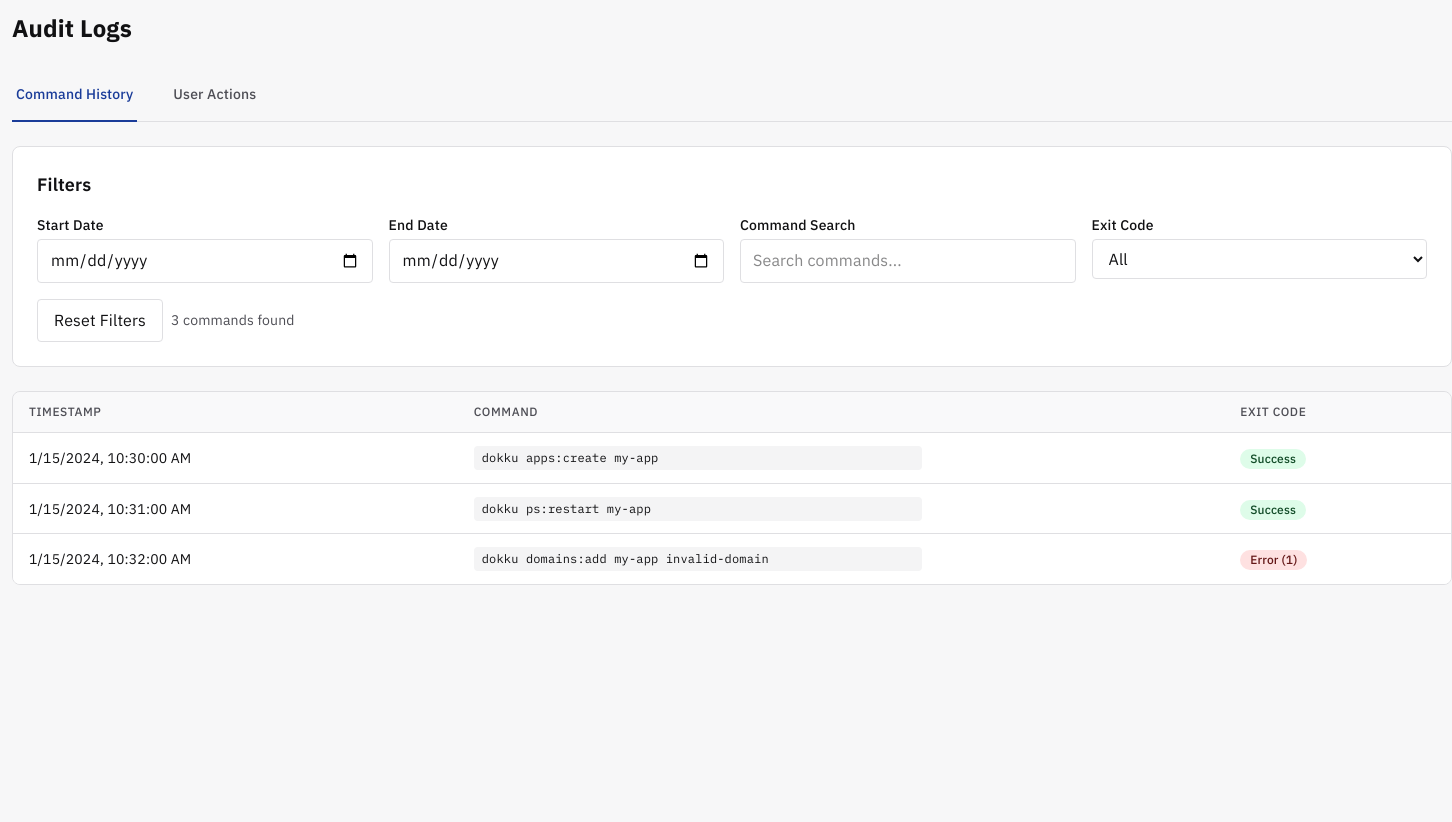
Test: Audit › should collapse log details when row is clicked again
This screenshot has width=1452, height=822.
Check: the text "dokku apps:create my-app" is shown, box [474,446,922,470]
Click the text "dokku apps:create my-app". click: (732, 458)
box: [13,433,1451,483]
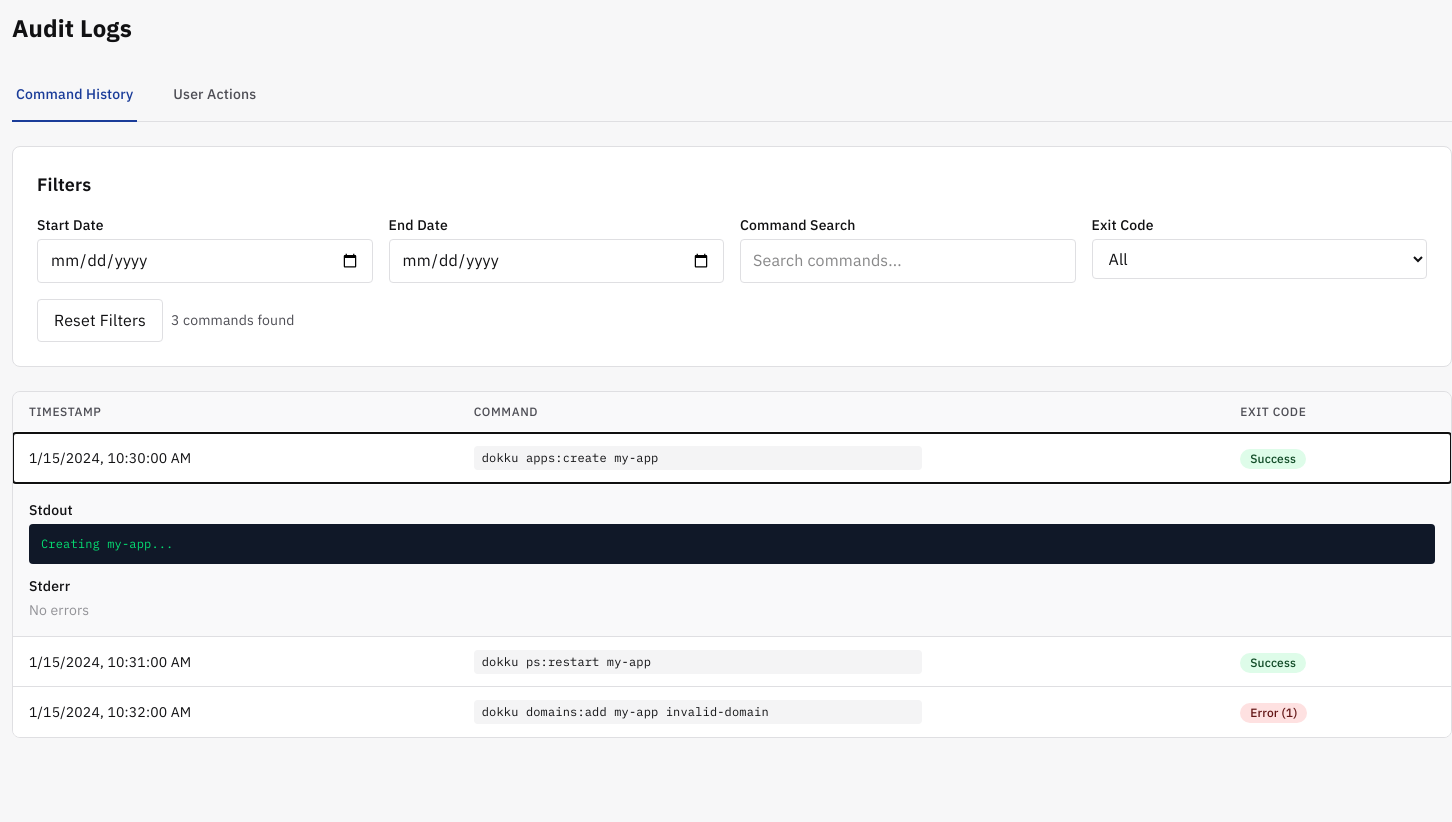
Check: the heading "Stdout" is shown, box [29,501,73,519]
Click the text "dokku apps:create my-app". click: (732, 458)
box: [13,433,1451,483]
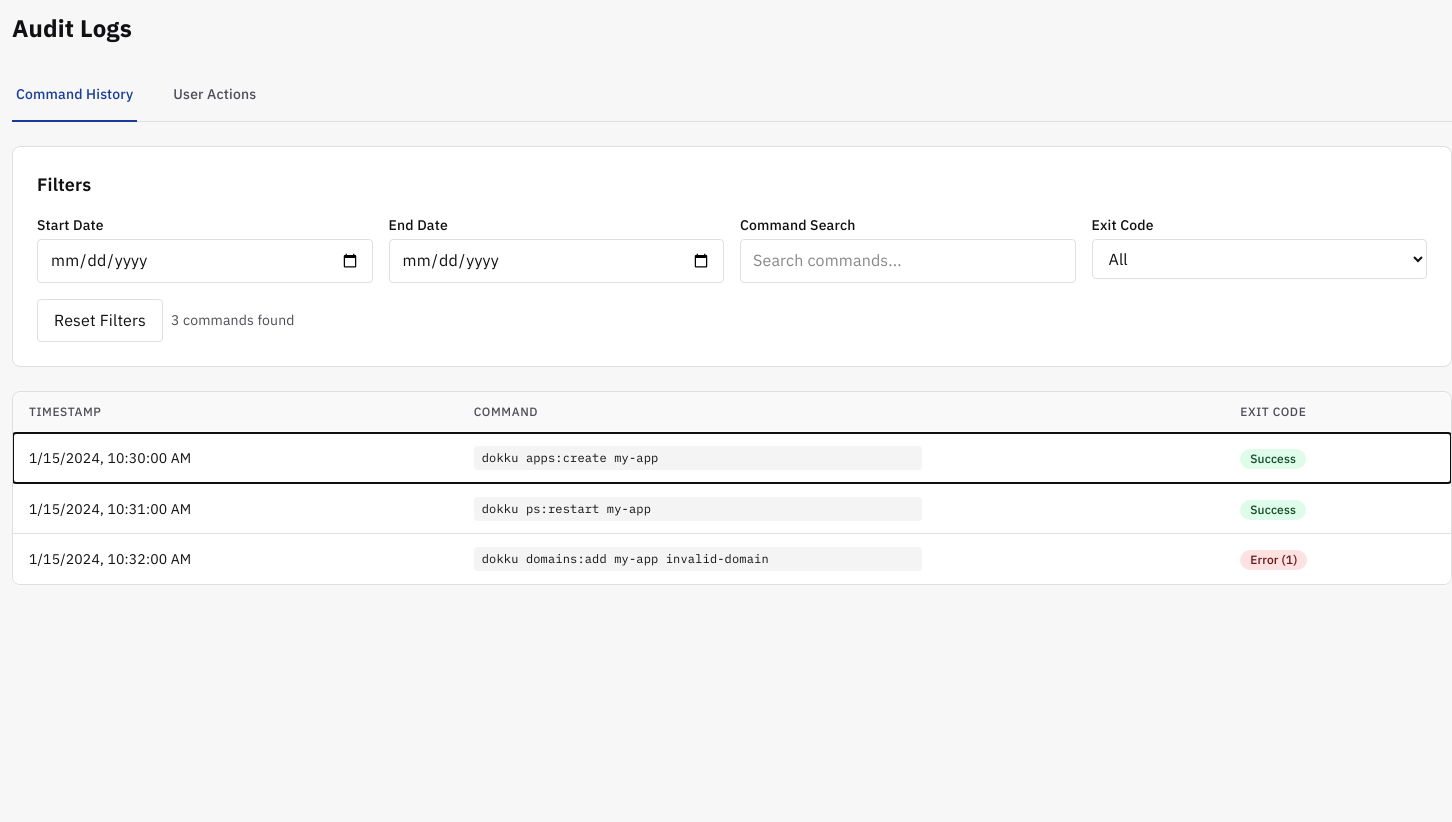
Check: the heading "Stdout" is gone
